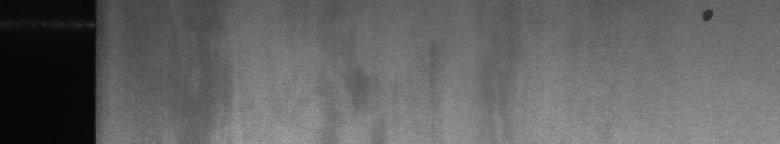fi: (696, 4, 719, 31)
